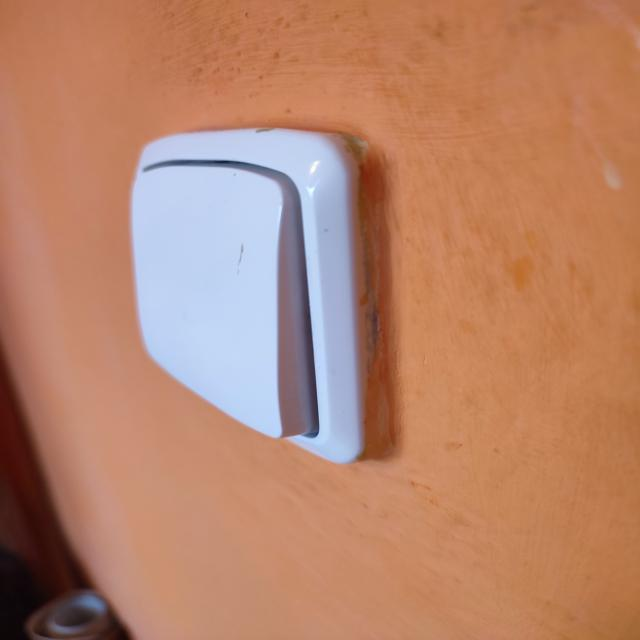house switch: (131, 129, 374, 465)
